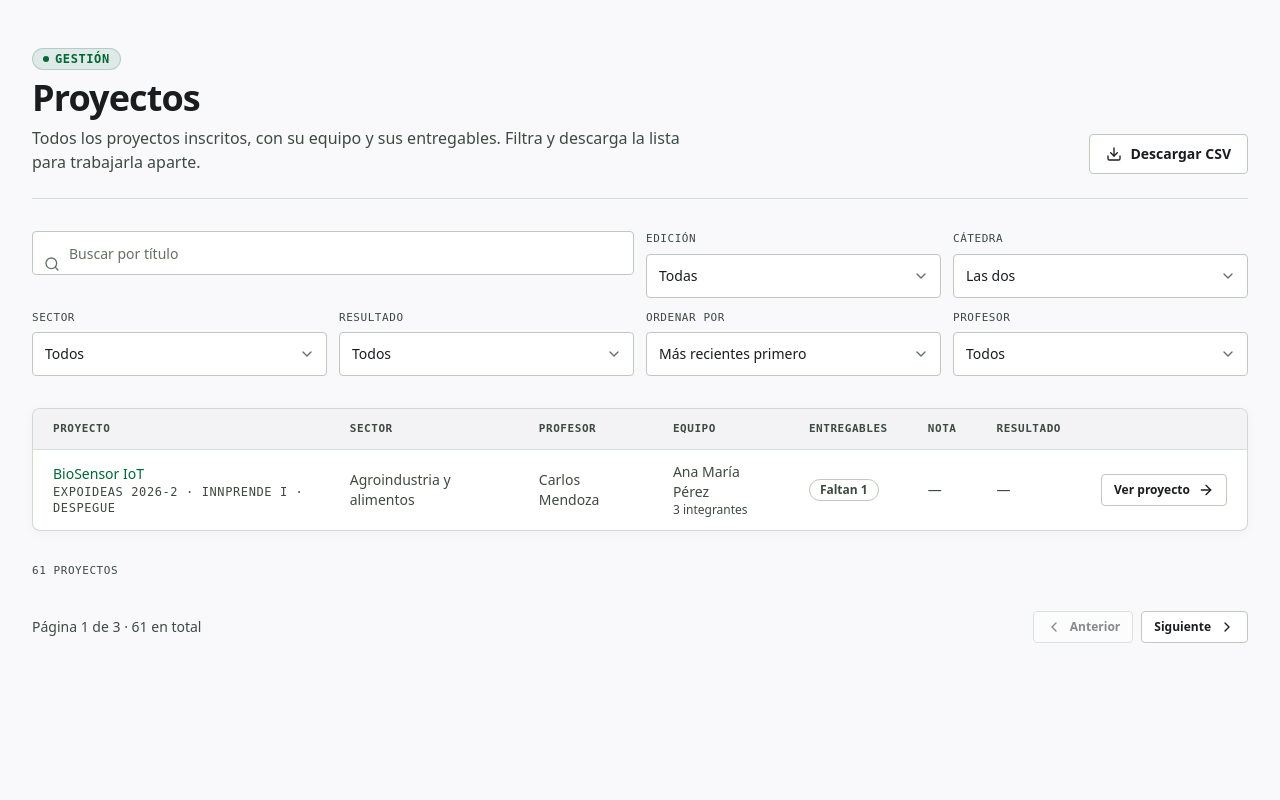
Test: El listado por páginas › cuenta todos los proyectos, no solo los de la página, y pasa a la siguiente
This screenshot has width=1280, height=800.
expect the text "61 proyectos" is shown: met, box [32, 564, 118, 577]
expect the text "Página 1 de 3 · 61 en total" is shown: met, box [32, 617, 202, 637]
Click the button "Siguiente" at (1195, 627), box [1141, 611, 1248, 643]
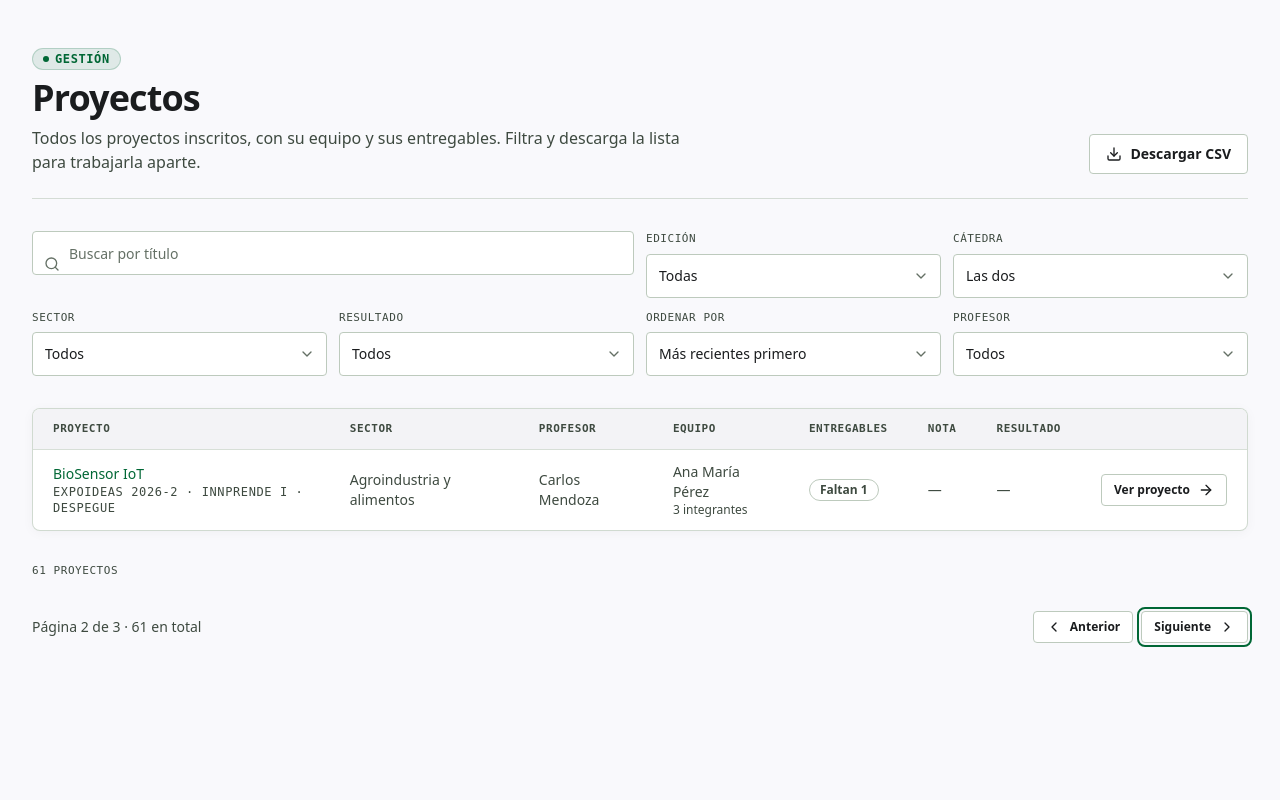
expect the text "Página 2 de 3 · 61 en total" is shown: met, box [32, 617, 202, 637]
